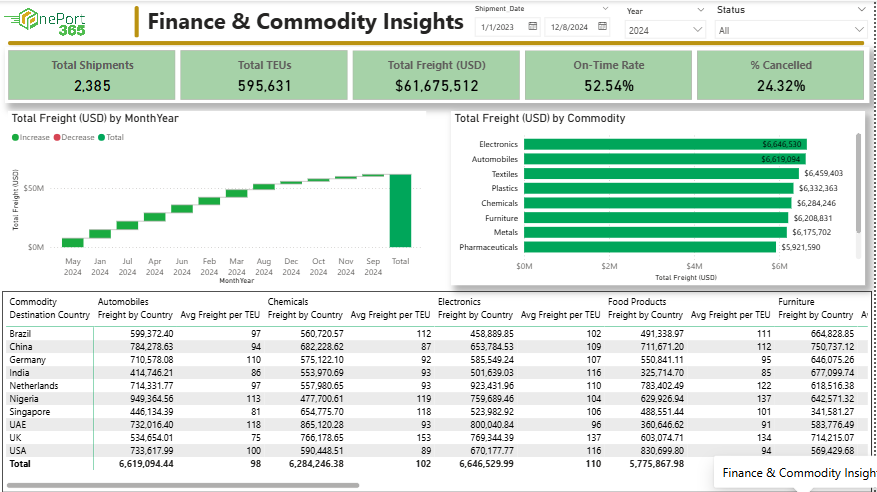

The page's visual inventory and layout, read from the dashboard file:
{"tool":"powerbi","page":{"name":"Finance & Commodity Insights","canvas":[1280,720],"ordinal":4},"visuals":[{"type":"textbox","box":[209.9,1.5,485.6,61.5],"z":0,"group":"g1"},{"type":"cardVisual","title":"Total Shipments","fields":{"Data":["_Measures.Total Shipments","_Measures.Total TEUs","_Measures.Total Freight (USD)","_Measures.On-Time Rate","_Measures.% Cancelled"]},"box":[7.5,67.4,1265,82.4],"z":0},{"type":"slicer","fields":{"Values":["Shipments.Year"]},"box":[903.8,3,139.4,60],"z":1000},{"type":"shape","box":[95.9,7.5,206.8,46.5],"z":1000,"group":"g1"},{"type":"shape","box":[11.8,45.8,1253.4,32.5],"z":2000},{"type":"slicer","fields":{"Values":["Shipments.Shipment_Date"]},"box":[682,0,221.7,60],"z":3000},{"type":"image","box":[0,0,133.9,60.5],"z":4000},{"type":"slicer","fields":{"Values":["Shipments.Status"]},"box":[1035.7,0,244.3,60],"z":5000},{"type":"waterfallChart","fields":{"Category":["Shipments.MonthYear"],"Y":["_Measures.Total Freight (USD)"]},"box":[12,160.4,611.5,259.3],"z":6000},{"type":"pivotTable","fields":{"Rows":["Shipments.Destination_Country"],"Columns":["Shipments.Commodity"],"Values":["_Measures.Freight by Country","_Measures.Avg Freight per TEU"]},"box":[3,424.2,1272.5,295.3],"z":7000},{"type":"clusteredBarChart","fields":{"Category":["Shipments.Commodity"],"Y":["_Measures.Total Freight (USD)"]},"box":[659.5,160.4,605.5,254.8],"z":8000},{"type":"group","id":"g1","title":"Group 1","box":[95.9,1.5,599.6,61.5],"z":9000}]}

Visuals, with their boxes in screenshot pixels (x1, y1, x2, y2), scaled from the page's 1280x720 canvas onto the 877x492 screenshot:
textbox: box(144, 1, 477, 43)
"Total Shipments" cardVisual: box(5, 46, 872, 102)
slicer - Shipments.Year: box(619, 2, 715, 43)
shape: box(66, 5, 207, 37)
shape: box(8, 31, 867, 54)
slicer - Shipments.Shipment_Date: box(467, 0, 619, 41)
image: box(0, 0, 92, 41)
slicer - Shipments.Status: box(710, 0, 876, 41)
waterfallChart - Shipments.MonthYear x _Measures.Total Freight (USD): box(8, 110, 427, 287)
pivotTable - Shipments.Destination_Country x Shipments.Commodity: box(2, 290, 874, 491)
clusteredBarChart - Shipments.Commodity x _Measures.Total Freight (USD): box(452, 110, 867, 284)
"Group 1" group: box(66, 1, 477, 43)
